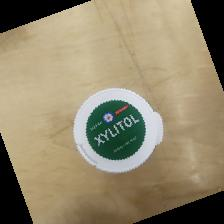Xylitol_green: (73, 86, 165, 177)
